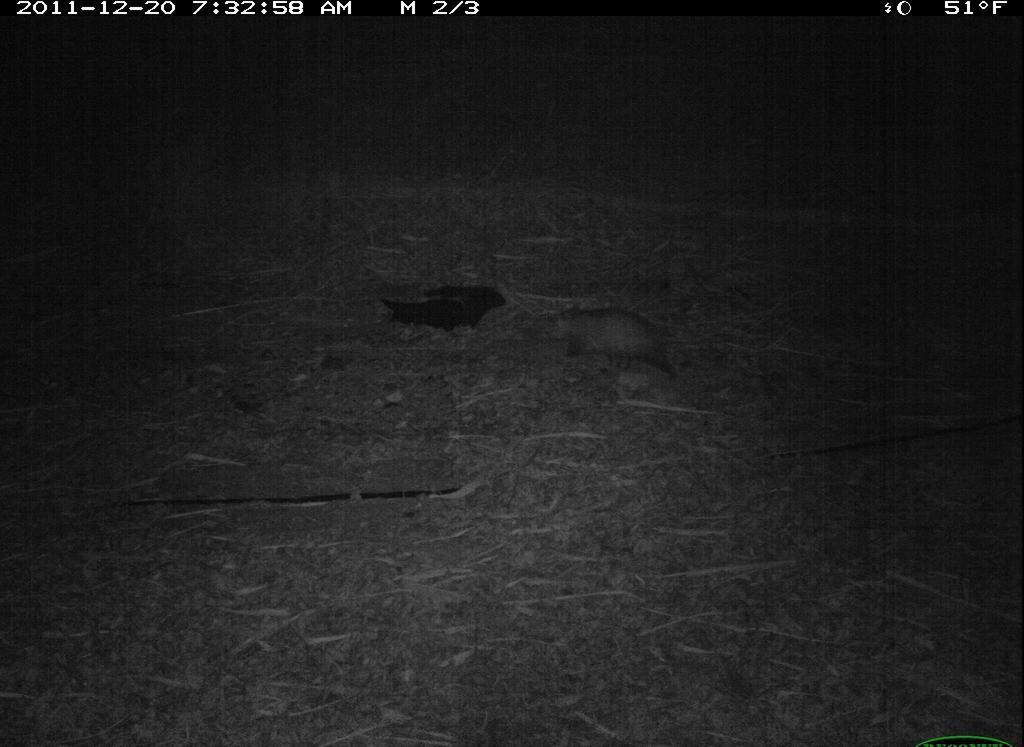opossum: (538, 296, 742, 391)
